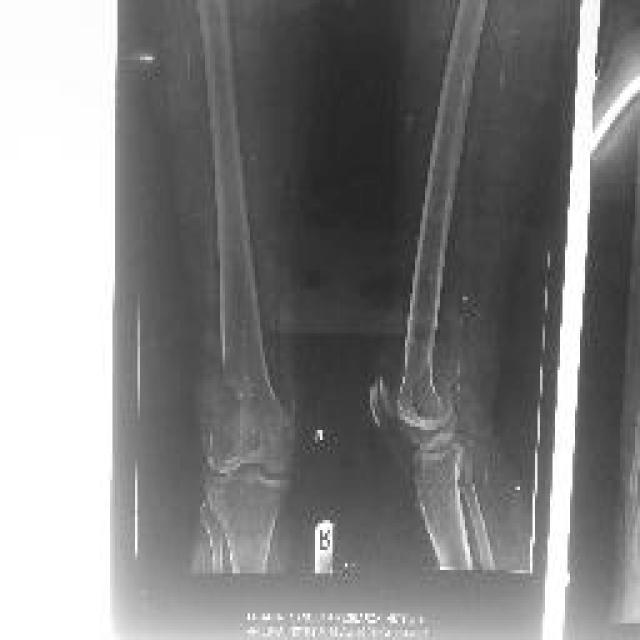bone-cancer: (198, 370, 248, 478), (405, 345, 451, 431)
